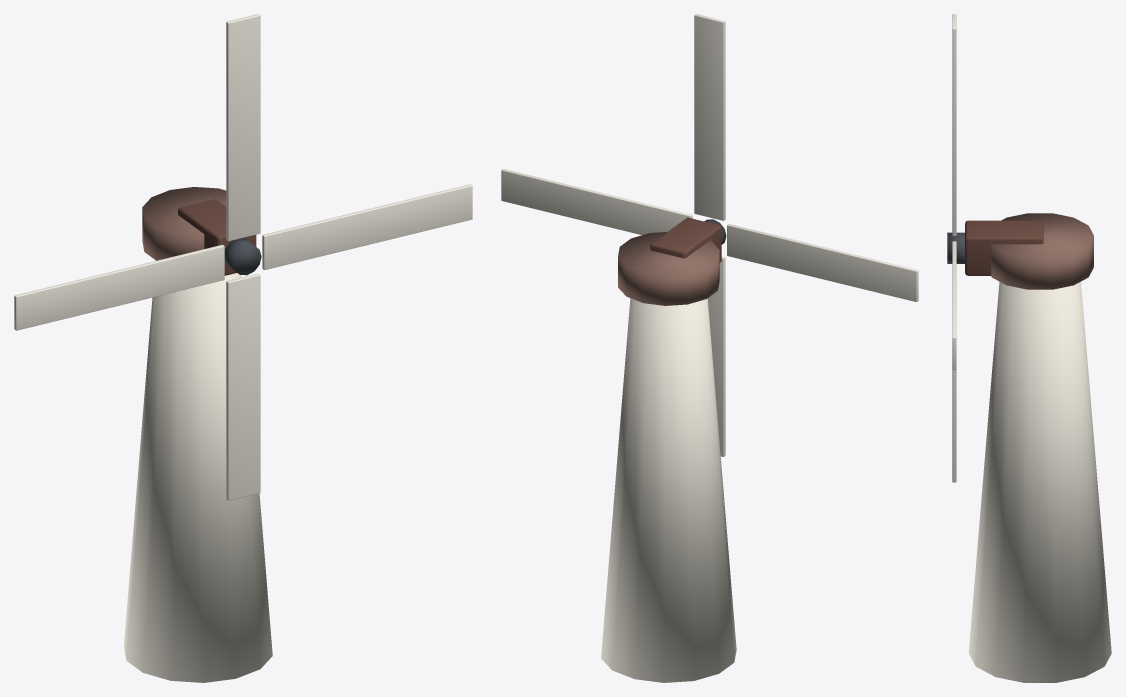
Rendered from windmill.glb.
3 views of the same model, side by side, from view 1: azimuth 30°, elevation 25°; view 2: azimuth 150°, elevation 25°; view 3: azimuth 270°, elevation 25° (orthographic). The views are drawn at different scales.
Parts seen in each view (by area): view 1: Body, Blades; view 2: Body, Blades; view 3: Body, Blades.
Part boxes in pixels (x1,y1,x2,y2): Body: [123, 187, 272, 682]; Blades: [14, 14, 472, 500]; Body: [601, 217, 736, 682]; Blades: [501, 14, 918, 456]; Body: [965, 213, 1111, 682]; Blades: [947, 14, 964, 482].
Bounding box in the file's own units: 7 × 9.75 × 2.3.
